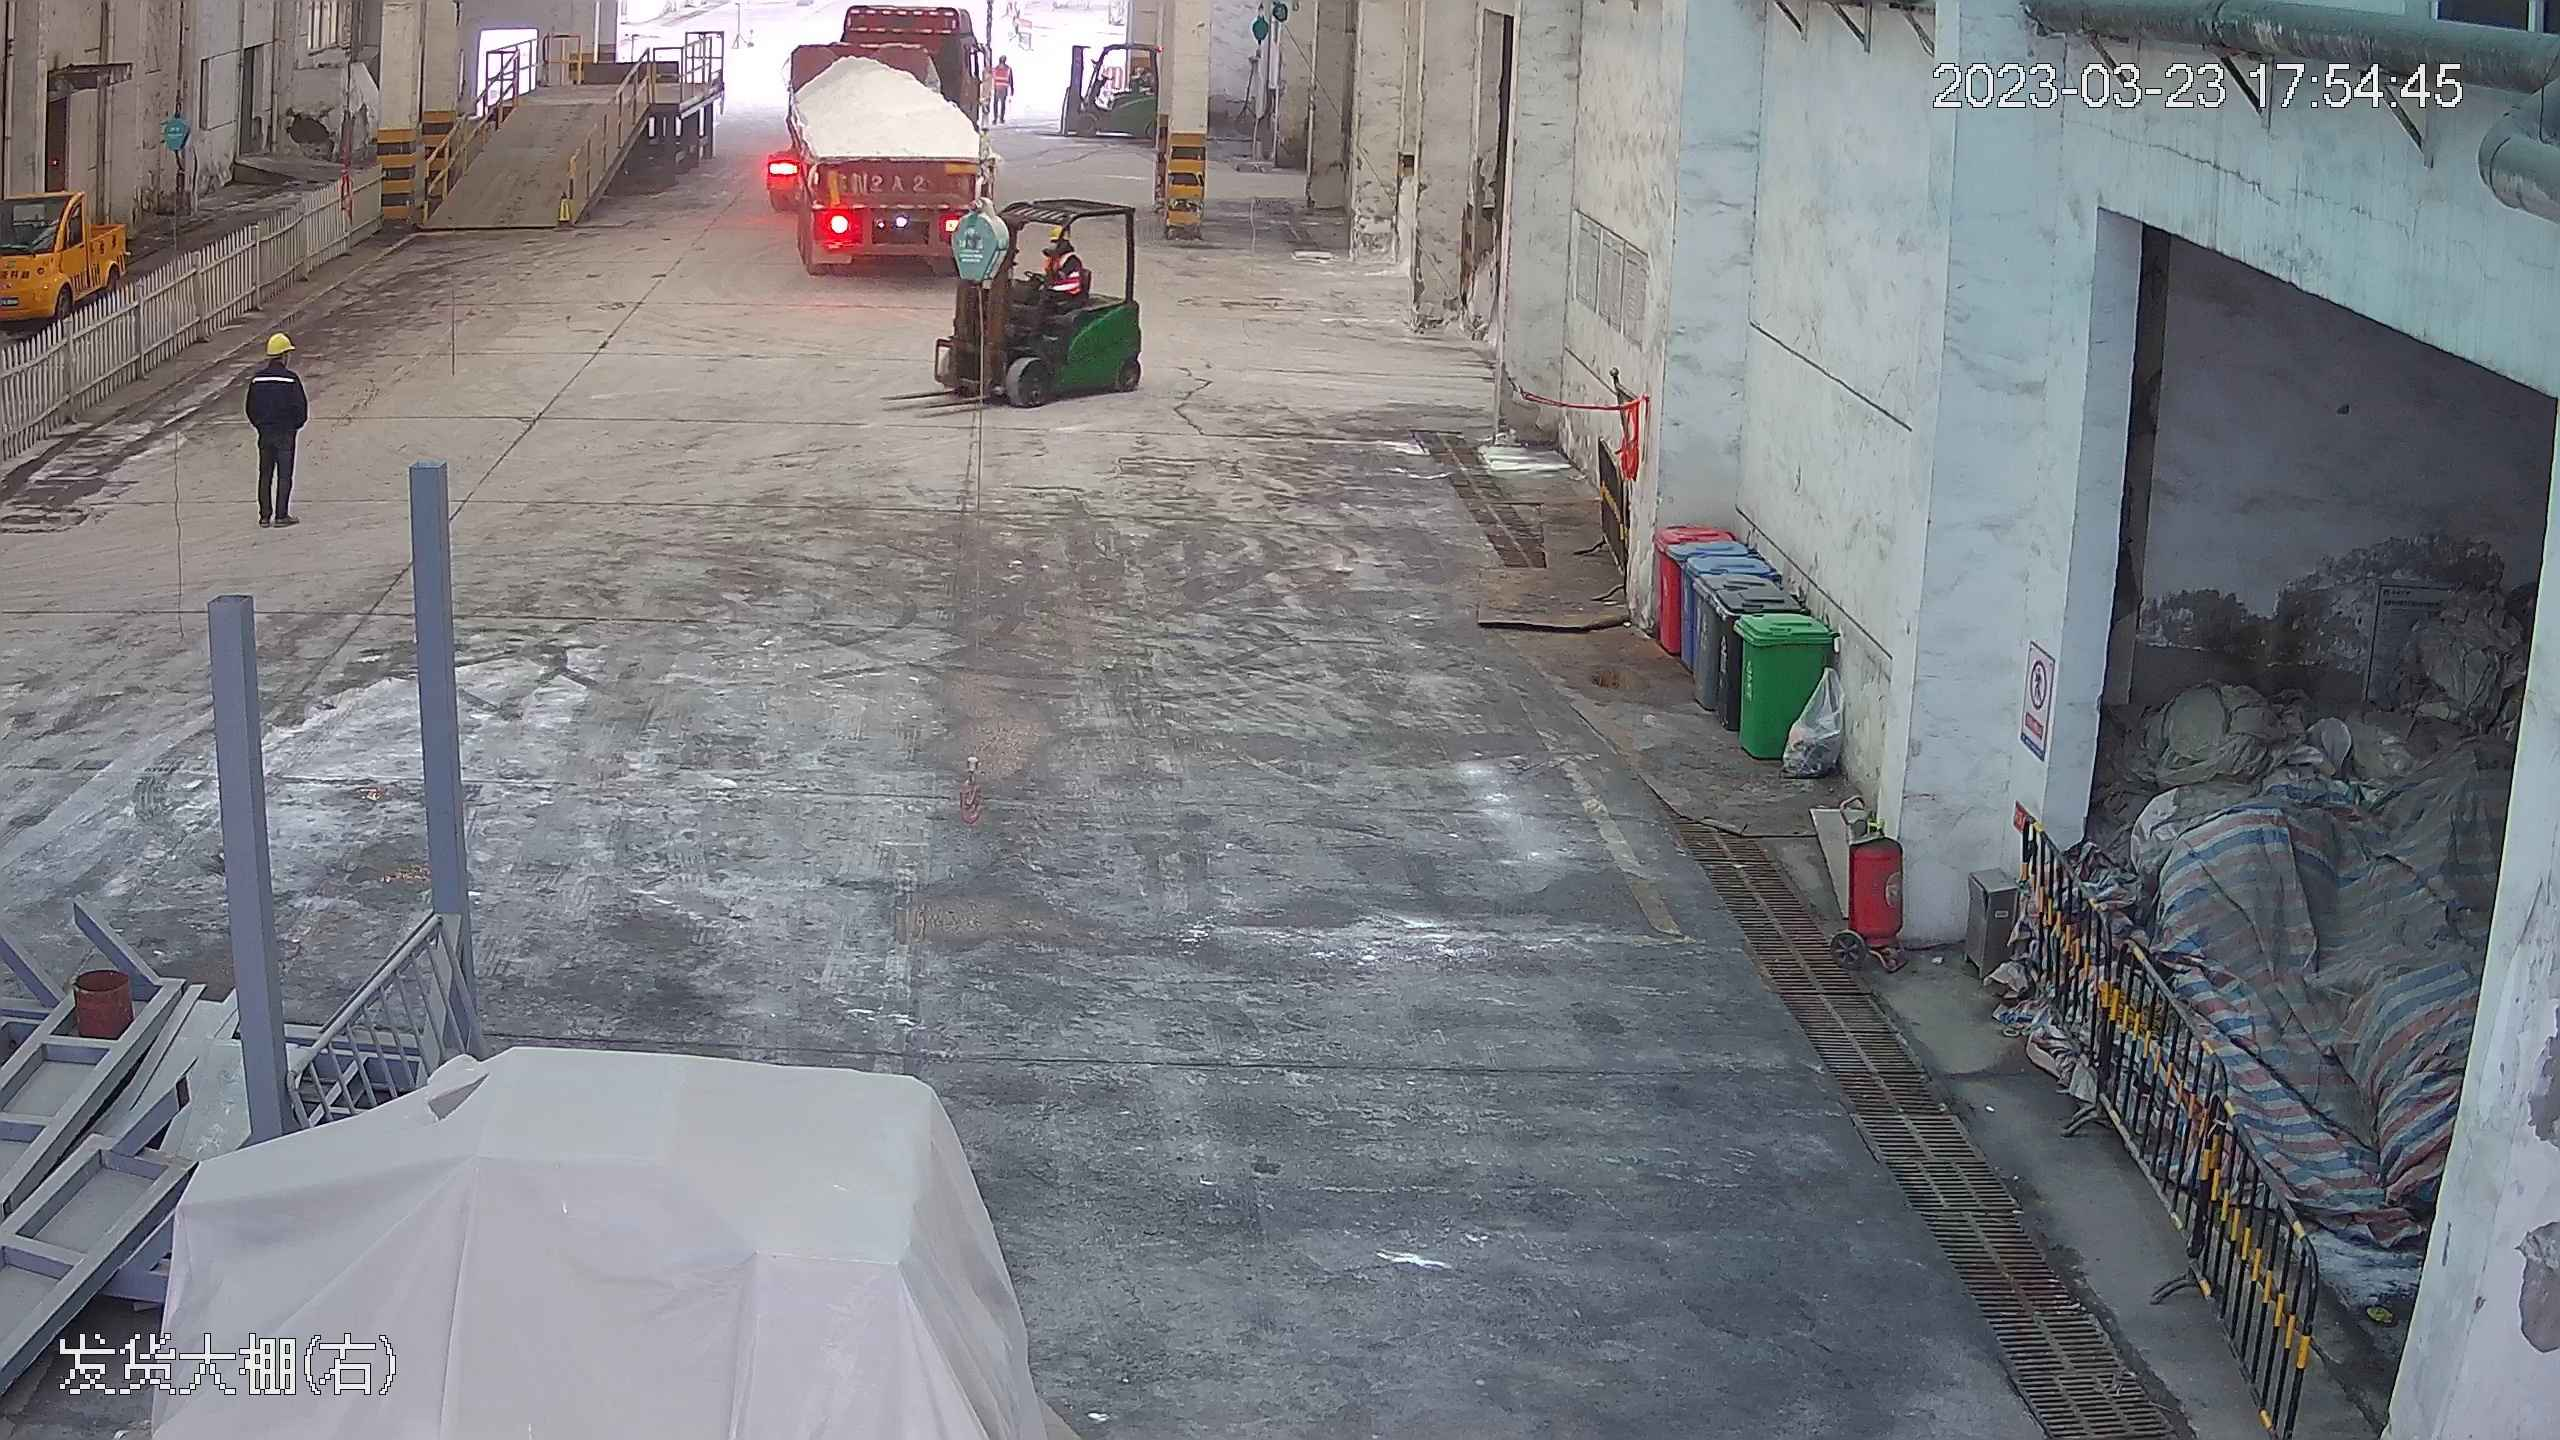head: (247, 329, 307, 390), (1041, 223, 1084, 269)
helmet: (261, 329, 294, 351), (1047, 222, 1069, 240)
people: (241, 326, 312, 527), (1031, 221, 1087, 322), (988, 44, 1022, 128)
truck: (759, 7, 995, 279)
